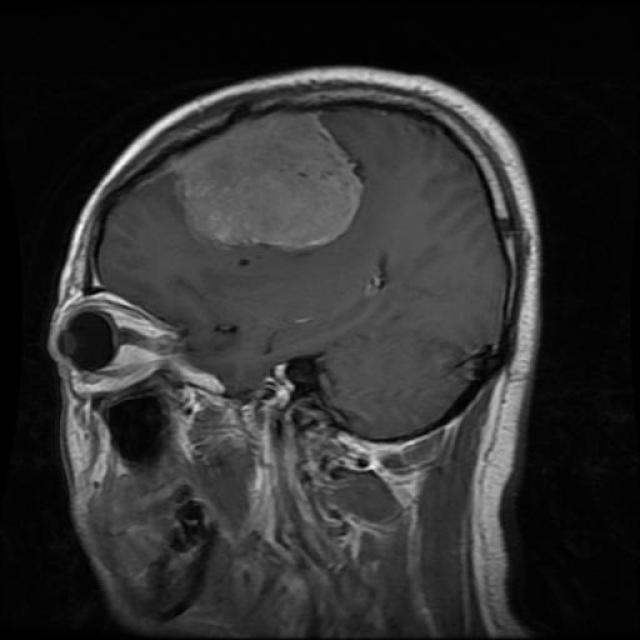meningioma: (174, 114, 364, 250)
